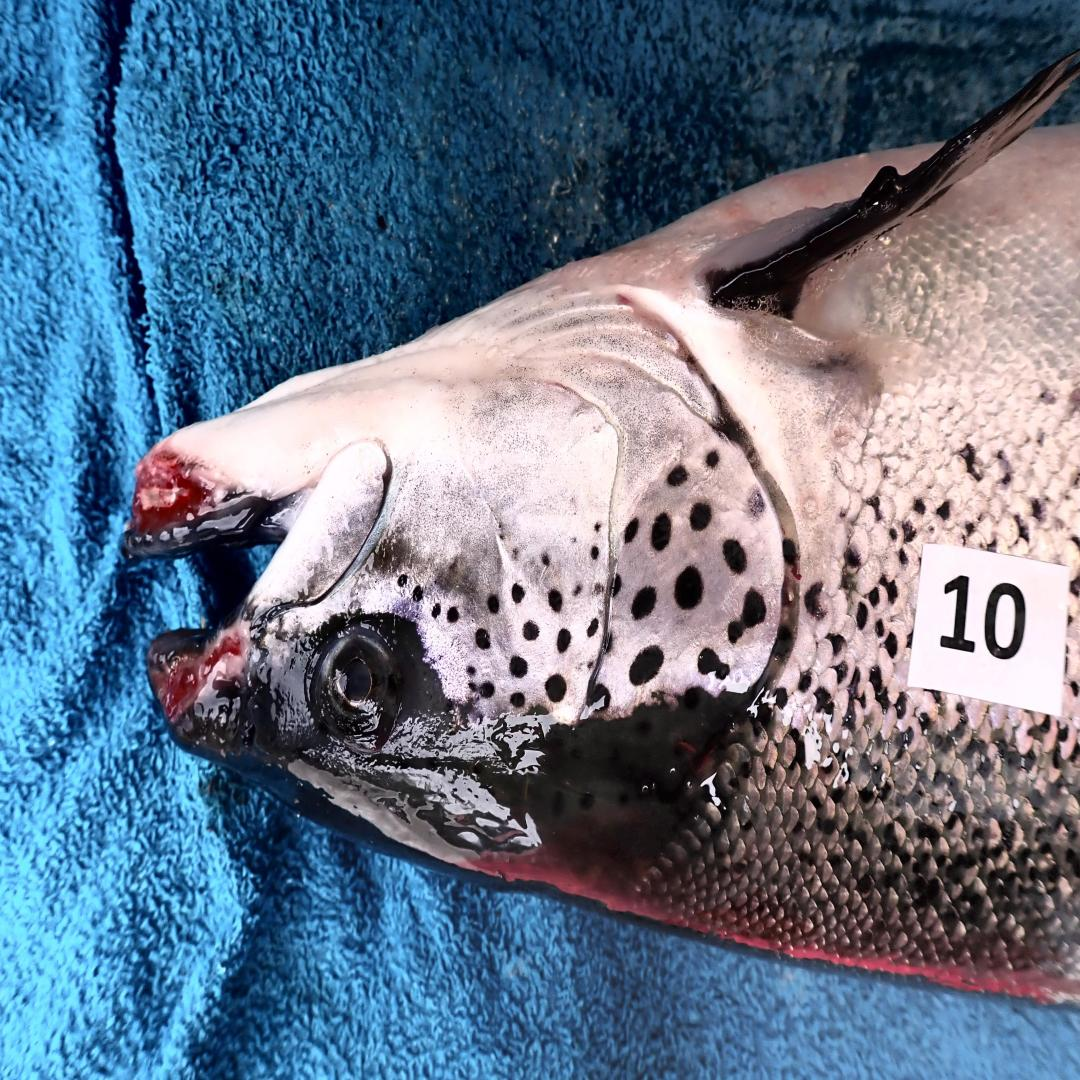spot: (728, 591, 766, 644), (629, 647, 664, 686), (675, 565, 702, 610), (698, 647, 730, 681), (584, 683, 612, 717), (631, 585, 656, 619), (724, 540, 747, 574), (745, 485, 767, 520), (773, 625, 793, 660), (652, 515, 671, 551), (690, 503, 711, 532), (546, 675, 567, 703), (782, 537, 798, 564), (667, 467, 688, 487), (510, 655, 527, 678), (557, 627, 572, 652), (624, 518, 639, 543), (510, 582, 525, 605), (475, 627, 489, 650), (410, 583, 425, 604), (548, 591, 563, 610), (523, 622, 538, 641), (591, 580, 605, 599), (525, 705, 547, 717), (510, 692, 525, 709), (605, 633, 616, 655), (586, 619, 599, 636), (487, 596, 500, 613), (481, 681, 494, 698), (612, 574, 622, 596), (707, 450, 719, 467), (466, 680, 478, 697), (509, 544, 520, 562), (397, 572, 409, 588), (447, 608, 460, 622), (572, 579, 582, 596), (466, 666, 477, 680), (432, 605, 441, 619), (593, 520, 603, 532), (591, 546, 599, 560), (542, 554, 551, 565), (587, 661, 593, 670), (571, 536, 576, 544), (499, 534, 504, 541), (497, 523, 502, 530)
